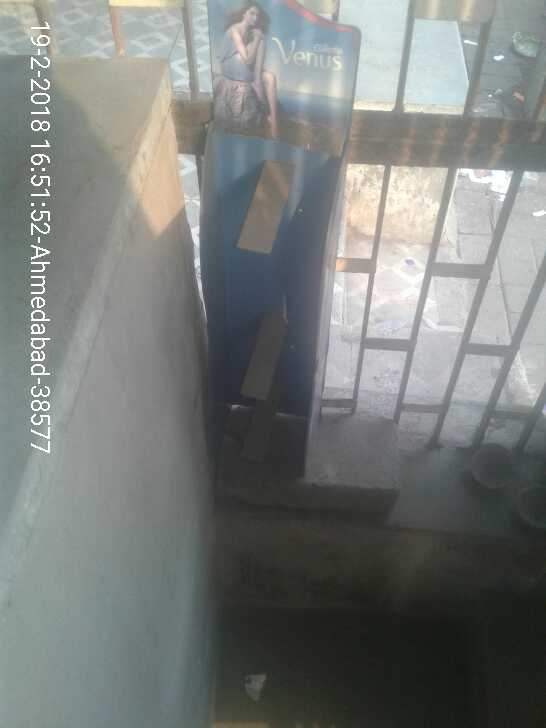reject: (215, 147, 350, 295)
